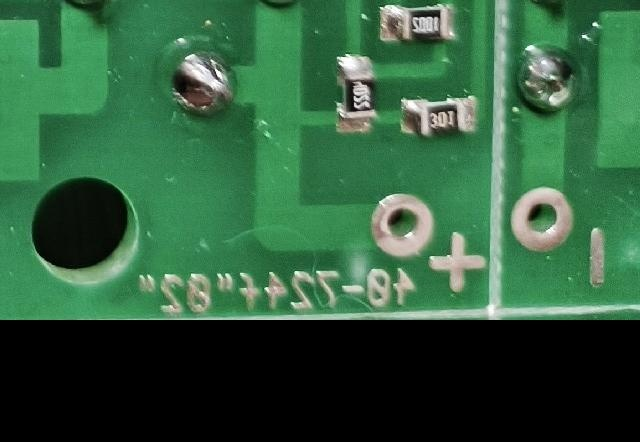chip-resistor: (398, 91, 478, 139), (333, 51, 376, 135), (376, 2, 459, 45)
